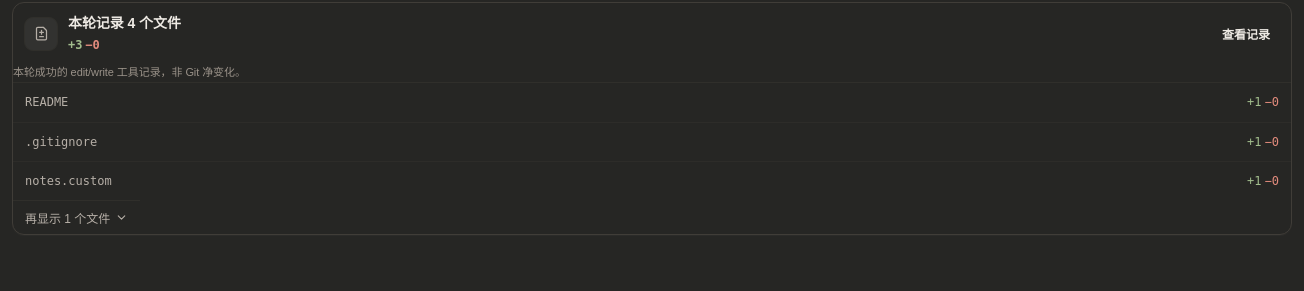
Scenario: ModifiedFilesCard › keeps text candidates and zero-line files, counts only previewable overflow, and hides an all-media card
Expected: the text "本轮记录 4 个文件" is shown, [68,15,181,31]
Expected: the number of buttons with class "modified-files-row" is 3, [13,83,1291,122]; [13,122,1291,161]; [13,161,1291,200]
Click the button "再显示 1 个文件". click: coordinates (77, 217)
box: [13,200,140,234]
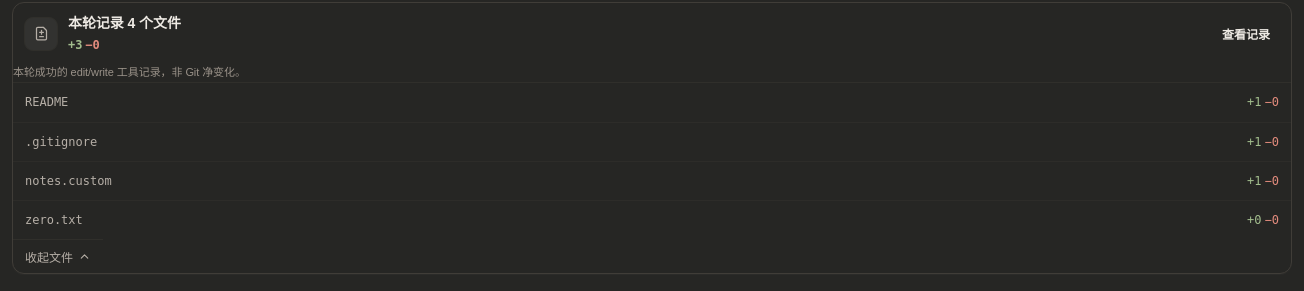
Result: the number of buttons with class "modified-files-row" is 4 at [13,83,1291,122]; [13,122,1291,161]; [13,161,1291,200]; [13,200,1291,239]
Result: the button titled "查看 zero.txt 的本轮记录" is shown at [13,200,1291,239]
Click the button "收起文件". click: coordinates (58, 256)
box: [13,239,103,273]
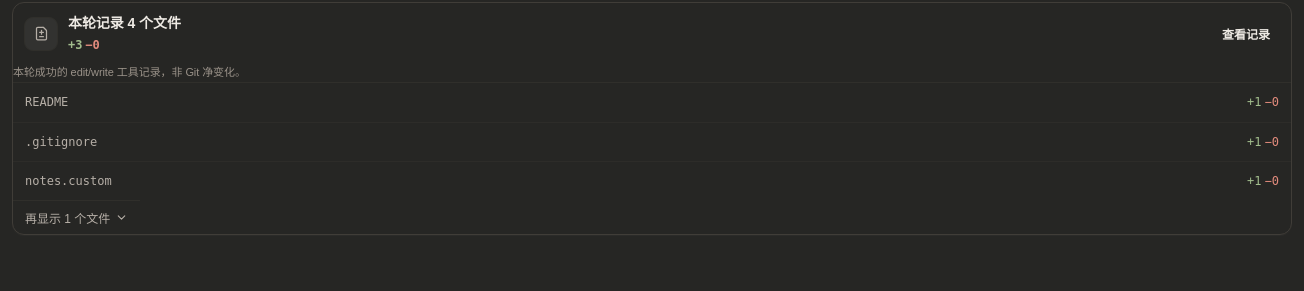
Result: the number of buttons with class "modified-files-row" is 3 at [13,83,1291,122]; [13,122,1291,161]; [13,161,1291,200]
